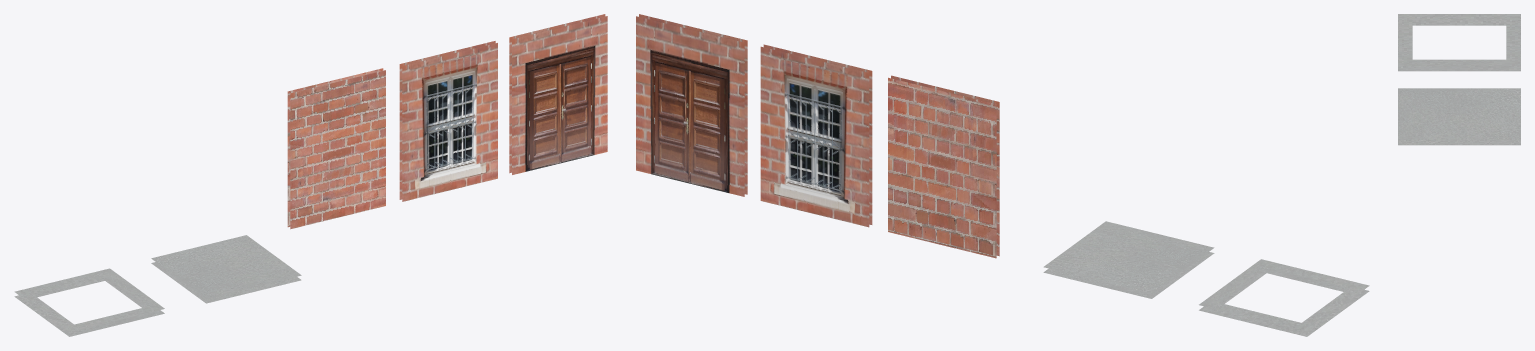
File: tenement_tiles_flat.glb
The picture shows the model from 3 angles, left to right: view 1: azimuth 30°, elevation 25°; view 2: azimuth 150°, elevation 25°; view 3: azimuth 270°, elevation 25°; orthographic projection. The views are drawn at different scales.
Visible parts, largest first — view 1: Wall, Window, Door, Floor, Hole; view 2: Window, Wall, Door, Floor, Hole; view 3: Floor, Hole.
Part boxes in pixels (x1,y1,x2,y2): Wall: (287,68,385,229); Window: (399,41,497,201); Door: (509,14,607,174); Floor: (151,235,301,303); Hole: (14,268,164,336); Window: (760,44,872,227); Wall: (888,75,999,258); Door: (636,14,747,196); Floor: (1043,221,1214,298); Hole: (1199,259,1369,336); Floor: (1398,88,1520,145); Hole: (1398,14,1520,71).
Bounding box in the file's own units: 12.96 × 2.9 × 2.1.
Materials: 4 (4 with a texture image).
